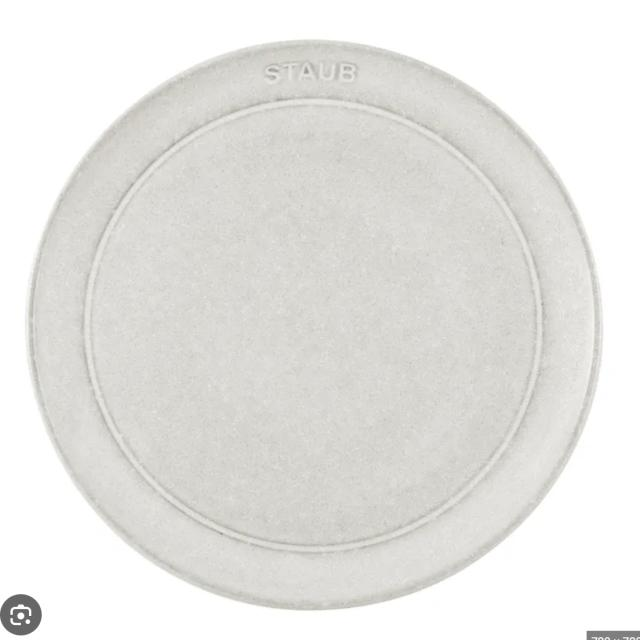recyclable: (21, 32, 616, 619)
